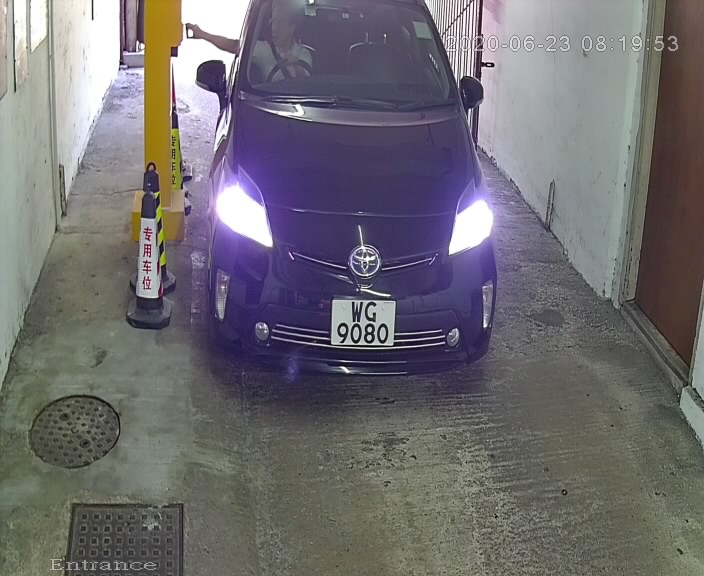privatecar: (172, 2, 528, 409)
